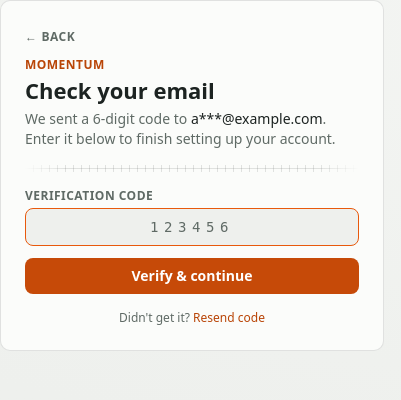
Scenario: VerifyCard › resends a code and enters a cooldown
Step 1. Click the button "Resend code" → coordinates (229, 318), box [193,310,265,326]
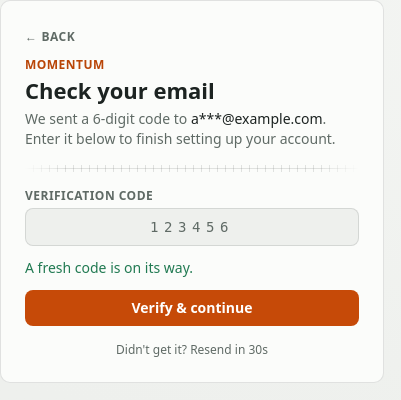
Expected: the text "A fresh code is on its way." is shown, [25,258,193,276]
Expected: the button "Resend in 30s" is disabled, [190,342,268,358]
